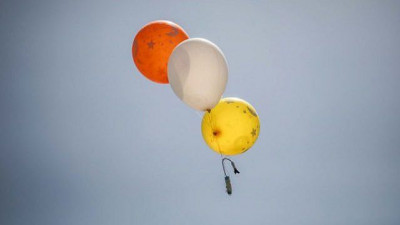Balloon: (167, 38, 229, 111), (132, 19, 189, 85), (201, 98, 261, 155)
